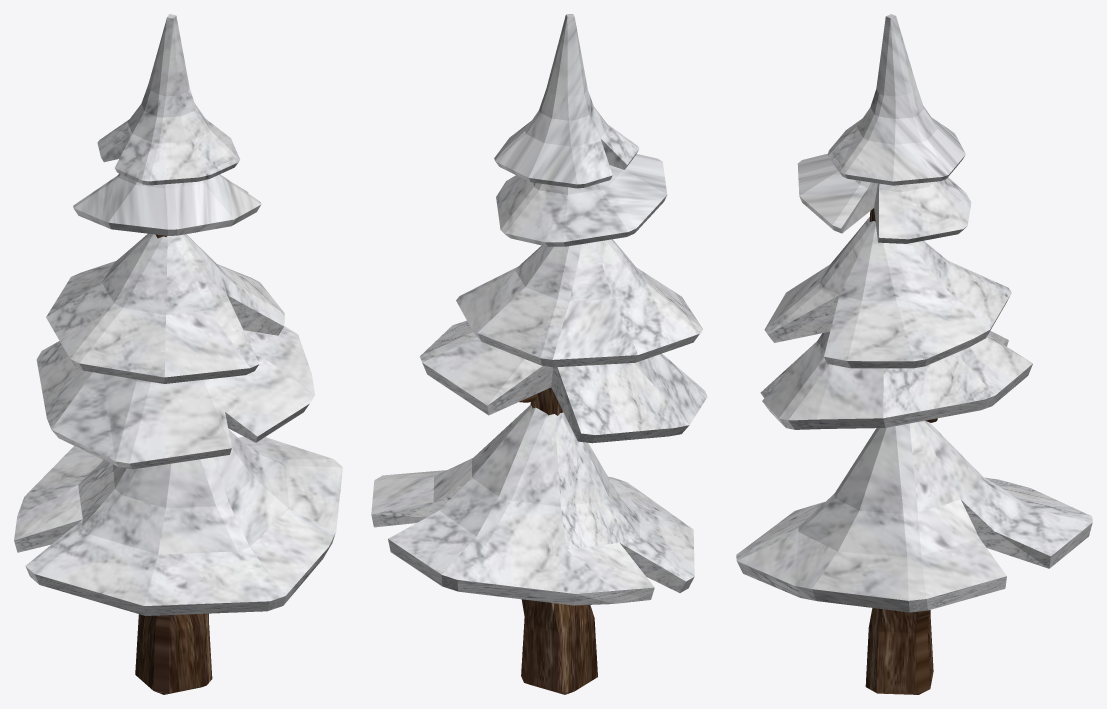
File: tree_pink_modified.gltf
3 views of the same model, side by side, from view 1: azimuth 30°, elevation 25°; view 2: azimuth 150°, elevation 25°; view 3: azimuth 270°, elevation 25° (orthographic).
Parts seen in each view (by area): view 1: mesh_1_15, mesh_0_20, mesh_4, mesh_0_17, mesh_2_21, mesh_0_12, mesh_3, mesh_5, mesh_2_12, mesh_2_7, mesh_1_17, mesh_0_5 (+12 smaller); view 2: mesh_0_5, mesh_4, mesh_3, mesh_0_4, mesh_5, mesh_1_17, mesh_2_2, mesh_2_21, mesh_0_20, mesh_0_2, mesh_1_2, mesh_2_12 (+15 smaller); view 3: mesh_0_12, mesh_2_3, mesh_4, mesh_3, mesh_0_4, mesh_5, mesh_1_5, mesh_1_4, mesh_0_17, mesh_2_2, mesh_1_15, mesh_2_7 (+11 smaller).
Boxes of the visible parts, x1,y1,x2,y2 form: mesh_1_15: [51, 350, 314, 463]; mesh_0_20: [25, 468, 285, 605]; mesh_4: [97, 14, 240, 185]; mesh_0_17: [123, 459, 335, 595]; mesh_2_21: [46, 234, 167, 377]; mesh_0_12: [213, 429, 342, 546]; mesh_3: [73, 173, 261, 235]; mesh_5: [135, 234, 212, 694]; mesh_2_12: [46, 263, 249, 377]; mesh_2_7: [166, 234, 259, 367]; mesh_1_17: [36, 341, 92, 429]; mesh_0_5: [17, 446, 109, 516]; mesh_0_5: [442, 408, 614, 593]; mesh_4: [494, 14, 639, 188]; mesh_3: [496, 154, 667, 246]; mesh_0_4: [388, 406, 654, 590]; mesh_5: [521, 387, 597, 694]; mesh_1_17: [557, 363, 689, 435]; mesh_2_2: [477, 244, 581, 359]; mesh_2_21: [595, 239, 702, 354]; mesh_0_20: [560, 412, 694, 581]; mesh_0_2: [554, 413, 632, 549]; mesh_1_2: [422, 337, 542, 405]; mesh_2_12: [553, 299, 638, 359]; mesh_0_12: [799, 423, 1006, 600]; mesh_2_3: [824, 221, 989, 361]; mesh_4: [828, 14, 965, 185]; mesh_3: [797, 153, 971, 243]; mesh_0_4: [917, 421, 1092, 556]; mesh_5: [865, 208, 933, 694]; mesh_1_5: [883, 353, 994, 418]; mesh_1_4: [788, 364, 883, 420]; mesh_0_17: [737, 493, 837, 588]; mesh_2_2: [911, 240, 1011, 329]; mesh_1_15: [761, 331, 829, 420]; mesh_2_7: [764, 217, 874, 334].
Size of the model in its own units: 528 by 1086 by 526.
3 materials, 3 textured.
